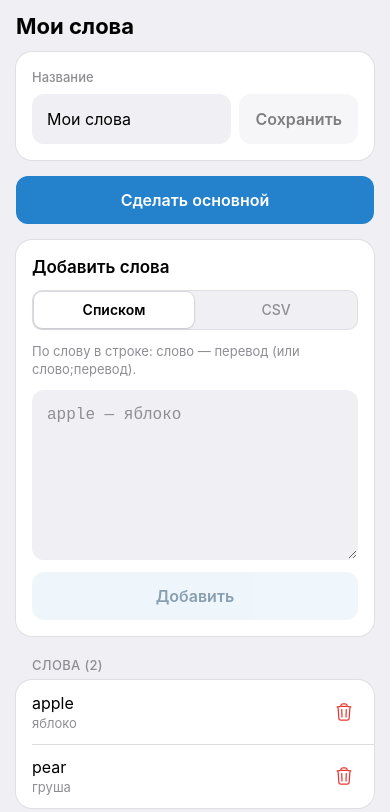
DeckEditView › main deck › explains a refused write in an alert
The width and height of the screenshot is (390, 812).
Click the button with test id "choose-btn".
click(195, 200)  # box [16,176,374,224]
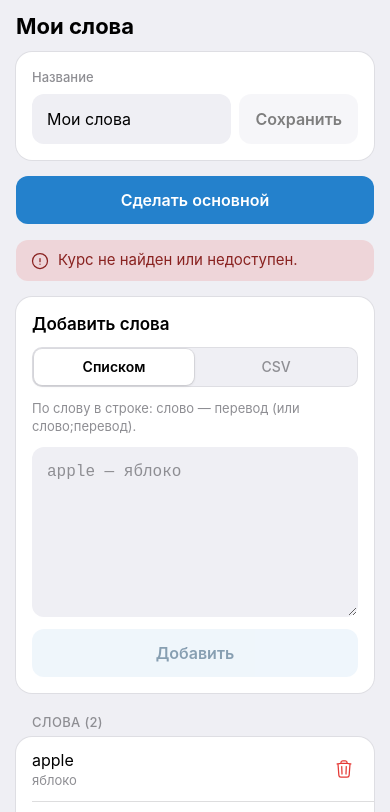
Expected: the message with test id "write-error" reads "Курс не найден или недоступен.", [58,250,298,269]
